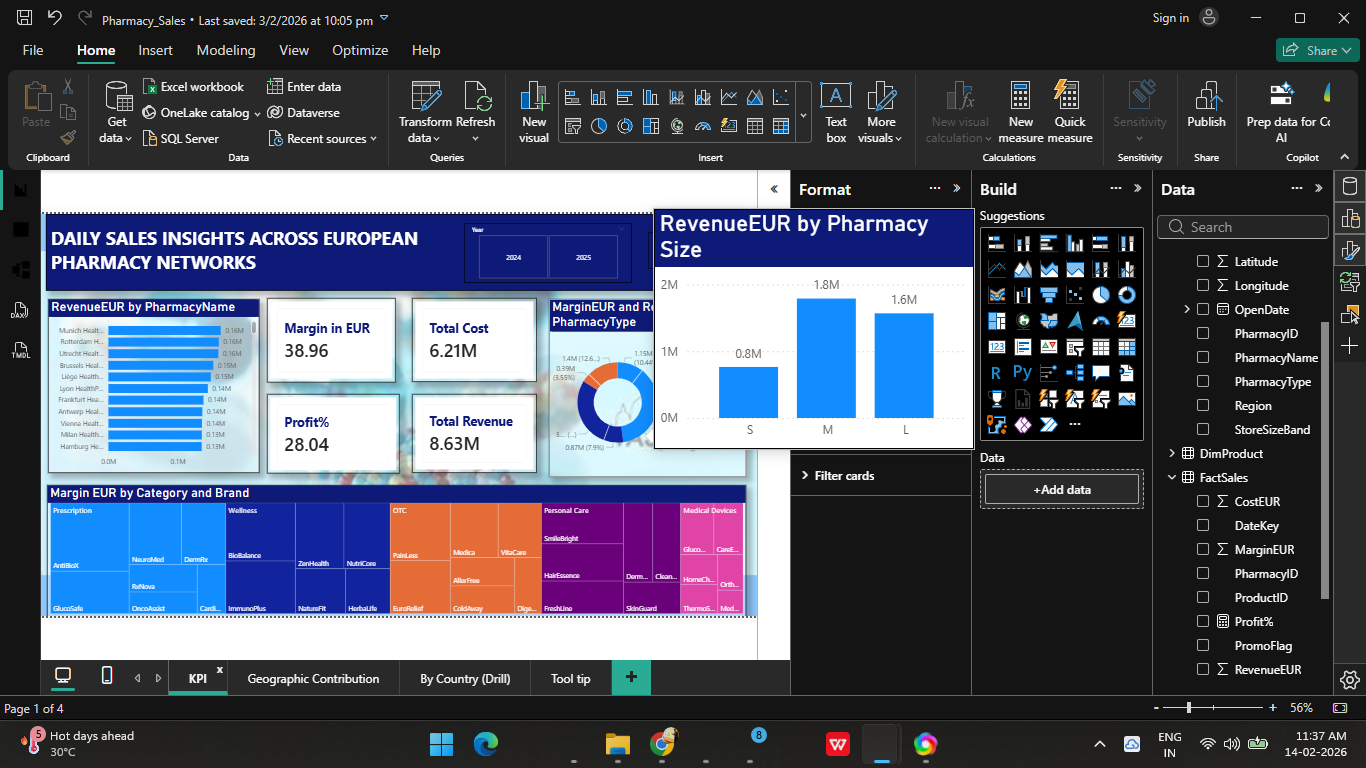

The page's visual inventory and layout, read from the dashboard file:
{"tool":"powerbi","page":{"name":"KPI","canvas":[1280,720],"ordinal":0},"visuals":[{"type":"cardVisual","fields":{"Data":["Sum(T_FactSales.RevenueEUR)"]},"box":[663.2,321.8,223.5,141.2],"z":0},{"type":"cardVisual","fields":{"Data":["Avg(T_FactSales.MarginEUR)"]},"box":[404.8,150.9,230,150.9],"z":1000},{"type":"cardVisual","fields":{"Data":["Sum(T_FactSales.CostEUR)"]},"box":[663.2,150.2,223.5,150.2],"z":2000},{"type":"clusteredBarChart","title":"RevenueEUR by PharmacyName","fields":{"Category":["DimPharmacy.PharmacyName"],"Y":["Sum(T_FactSales.RevenueEUR)"]},"box":[11.7,151.8,378.4,310.7],"z":3000},{"type":"donutChart","title":"MarginEUR and RevenueEUR by PharmacyType","fields":{"Category":["DimPharmacy.PharmacyType"],"Y":["Sum(FactSales.MarginEUR)","Sum(FactSales.RevenueEUR)"]},"box":[908.6,151.8,352.7,317.7],"z":4000},{"type":"treemap","title":"Margin EUR by Category and Brand","fields":{"Group":["DimProduct.Category"],"Values":["Sum(FactSales.MarginEUR)"],"Details":["DimProduct.Brand"]},"box":[10.5,484,1250.3,236],"z":5000},{"type":"textbox","box":[8.8,0,1251.9,137],"z":7000},{"type":"textbox","box":[12,16.4,732,95.6],"z":8000},{"type":"slicer","fields":{"Values":["DimDate.Year"]},"box":[756.8,15.8,300.2,107.1],"z":9000},{"type":"cardVisual","fields":{"Data":["FactSales.Profit%"]},"box":[403.8,321.3,237,142.2],"z":9500},{"type":"slicer","fields":{"Values":["T_DimPharmacy.Country"]},"box":[1084.5,31.4,156.8,65.7],"z":10000}]}

Visuals, with their boxes on the page's 1280x720 design canvas (x1, y1, x2, y2). These are canvas units, not pixel positions in the 1366x768 screenshot, which may show the page scaled, cropped or inside an application window:
cardVisual - Sum(T_FactSales.RevenueEUR): [663, 322, 887, 463]
cardVisual - Avg(T_FactSales.MarginEUR): [405, 151, 635, 302]
cardVisual - Sum(T_FactSales.CostEUR): [663, 150, 887, 300]
"RevenueEUR by PharmacyName" clusteredBarChart: [12, 152, 390, 462]
"MarginEUR and RevenueEUR by PharmacyType" donutChart: [909, 152, 1261, 470]
"Margin EUR by Category and Brand" treemap: [10, 484, 1261, 720]
textbox: [9, 0, 1261, 137]
textbox: [12, 16, 744, 112]
slicer - DimDate.Year: [757, 16, 1057, 123]
cardVisual - FactSales.Profit%: [404, 321, 641, 464]
slicer - T_DimPharmacy.Country: [1084, 31, 1241, 97]
